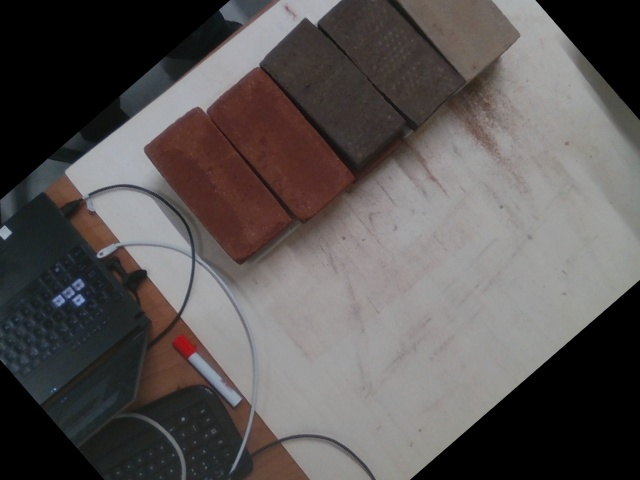brick: (208, 65, 356, 222), (144, 104, 290, 263), (260, 17, 408, 169)
